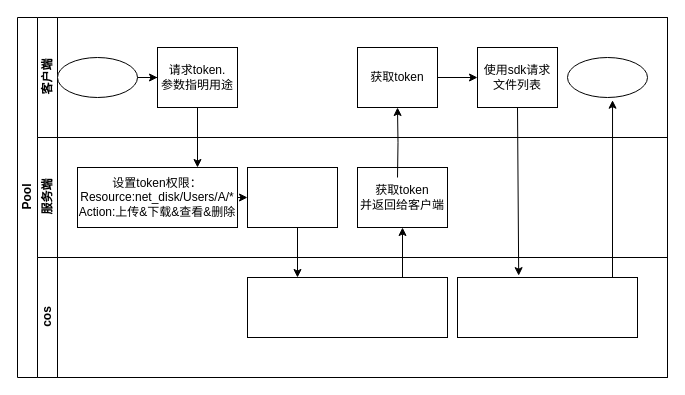
Some shapes in this 685 by 395 pixel diagram are drawn without their labels. The shapes that lost their labels are listed below. From the top down, each one's centre as x and y in pixels, then its label:
point 97,77: 用户A查看 网盘文件列表
point 607,77: 展示给用户
point 292,197: 请求生成 带权限的token
point 347,307: cos生成token 并返回给调用方
point 547,307: 返回文件列表
